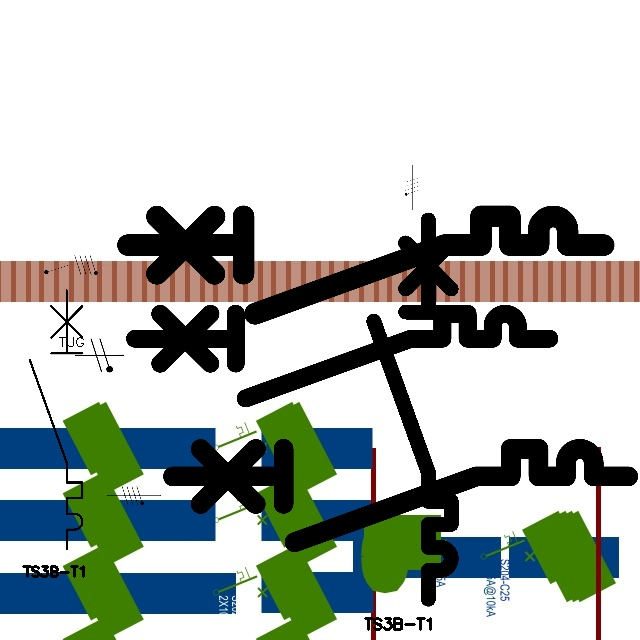interruptor_termomagnetico: (115, 204, 615, 326), (161, 437, 640, 554), (124, 303, 560, 409), (364, 210, 461, 609), (23, 283, 89, 555)
